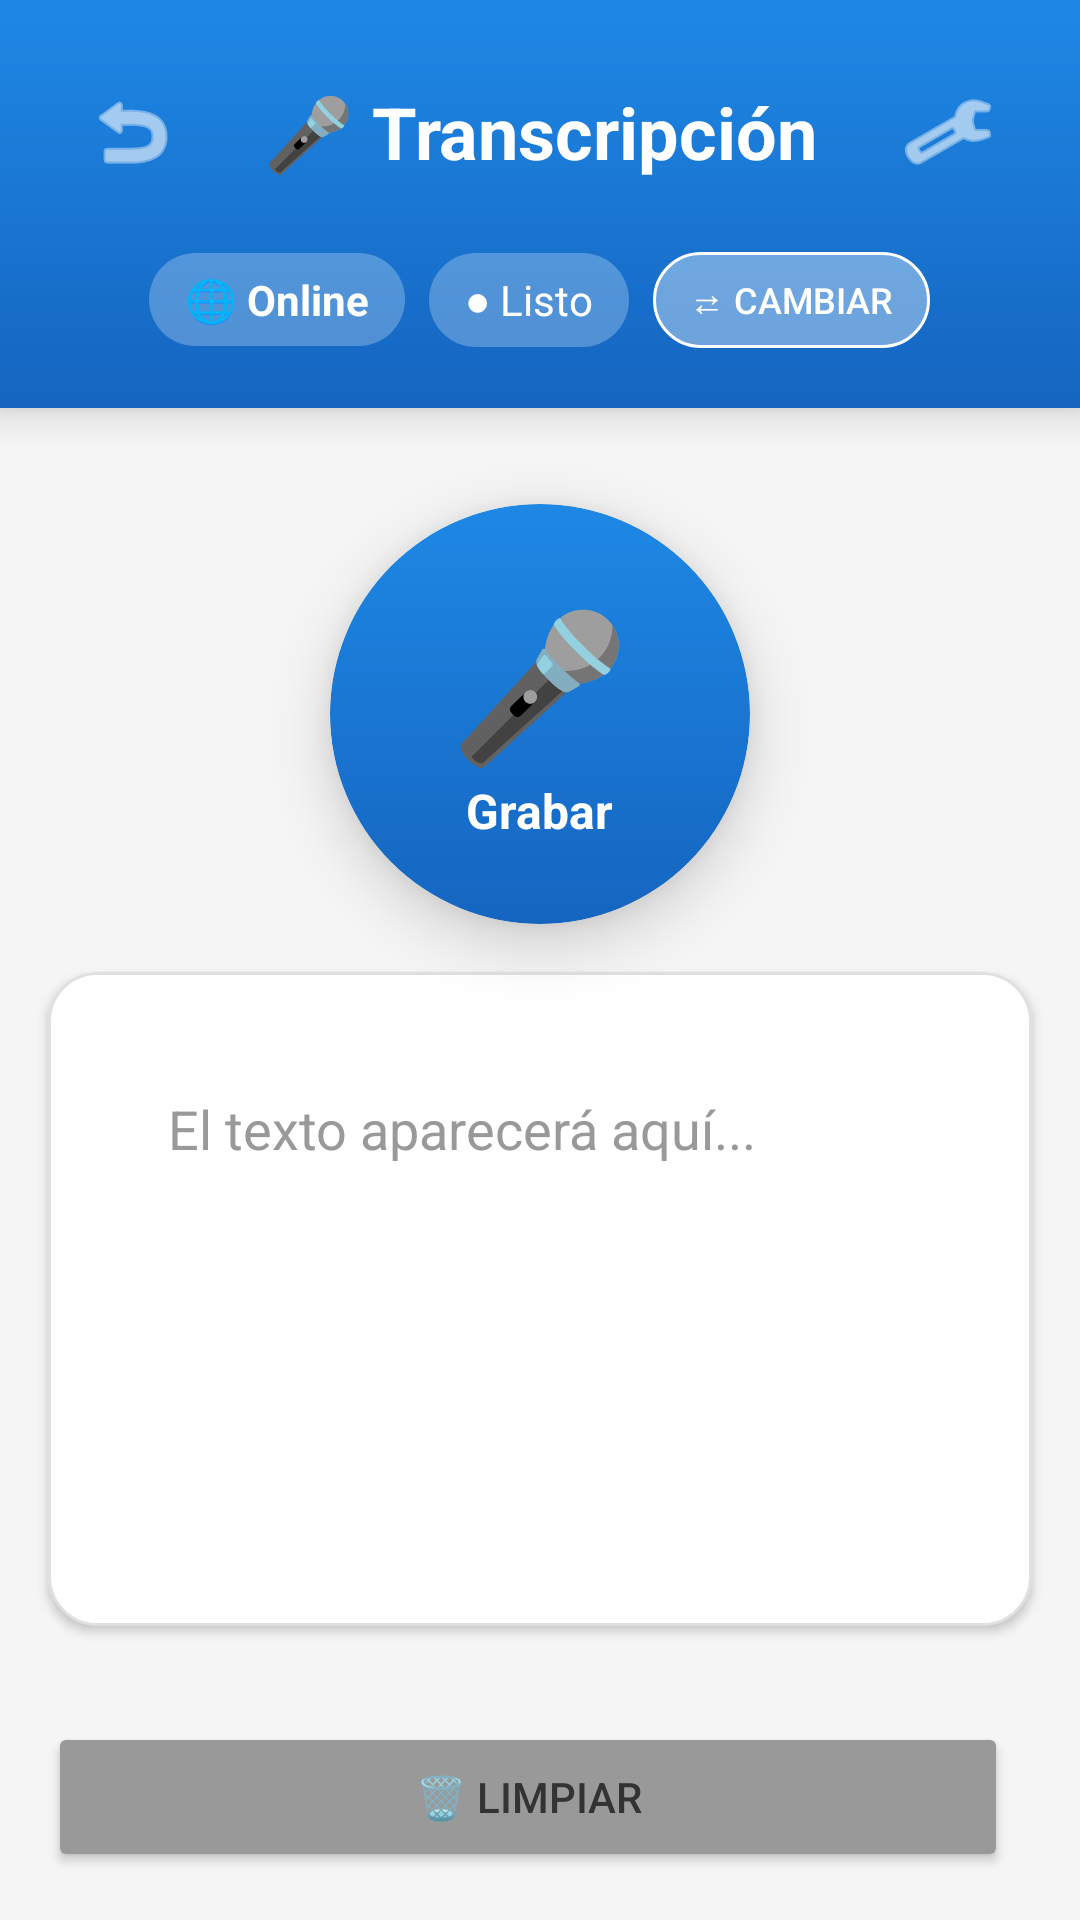

Icon click points for this 1080*1920 phone screenshot, format (x,y):
Configuración: (948,132)
Volver: (133,132)
